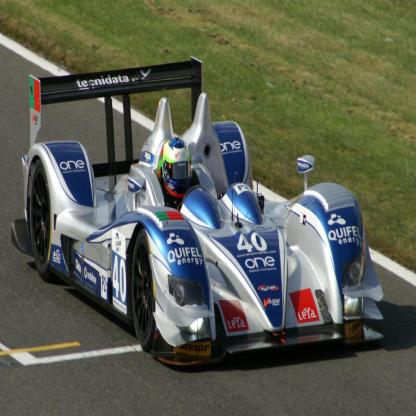Helmet: (159, 149, 192, 192)
